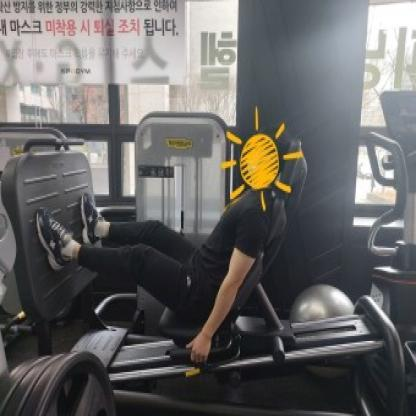leg press: (0, 76, 416, 416)
